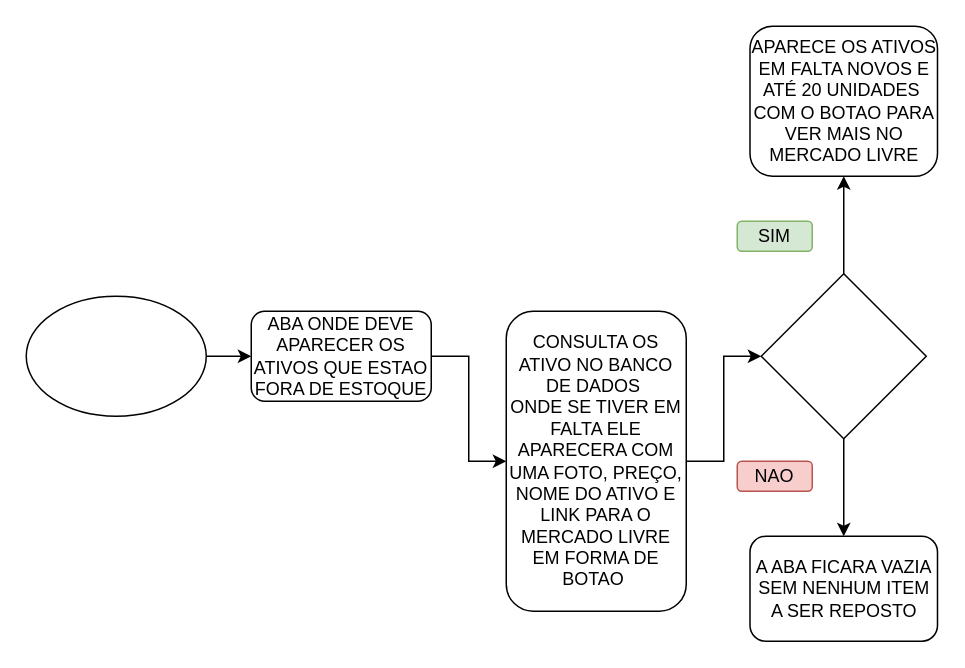
Some shapes in this 965 by 668 pixel diagram are drawn without their labels. The centre of each missing label's shape, as x and y in pixels:
INICIO: the point at 115,355
SE TIVER EM FALTA: the point at 843,355
